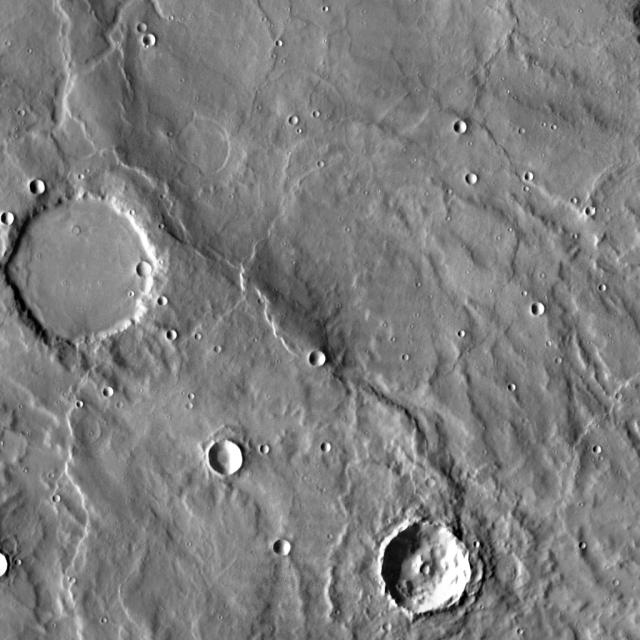crater: (10, 192, 165, 346), (387, 524, 477, 614), (179, 119, 235, 175), (215, 442, 249, 477), (280, 541, 296, 557), (315, 352, 331, 368), (36, 180, 52, 194), (143, 262, 158, 276), (538, 302, 551, 314), (150, 33, 162, 46), (8, 213, 20, 225), (460, 122, 472, 134), (108, 385, 120, 396), (472, 172, 483, 184), (164, 296, 174, 306), (592, 206, 602, 216), (432, 478, 442, 488), (294, 116, 304, 125), (145, 22, 154, 32), (173, 331, 182, 340), (266, 446, 275, 455), (326, 440, 335, 449), (593, 437, 601, 445), (18, 102, 26, 110), (514, 383, 522, 391), (382, 86, 390, 94), (400, 345, 408, 353), (532, 173, 539, 181), (214, 339, 222, 346), (586, 541, 593, 549), (390, 622, 398, 629), (53, 488, 61, 495), (79, 227, 87, 234), (311, 105, 318, 113), (598, 276, 605, 284), (614, 386, 622, 393), (457, 324, 464, 331), (76, 392, 82, 400), (518, 120, 524, 128), (276, 35, 282, 41), (322, 0, 328, 6), (317, 154, 323, 160), (556, 351, 562, 356), (185, 397, 191, 402)
